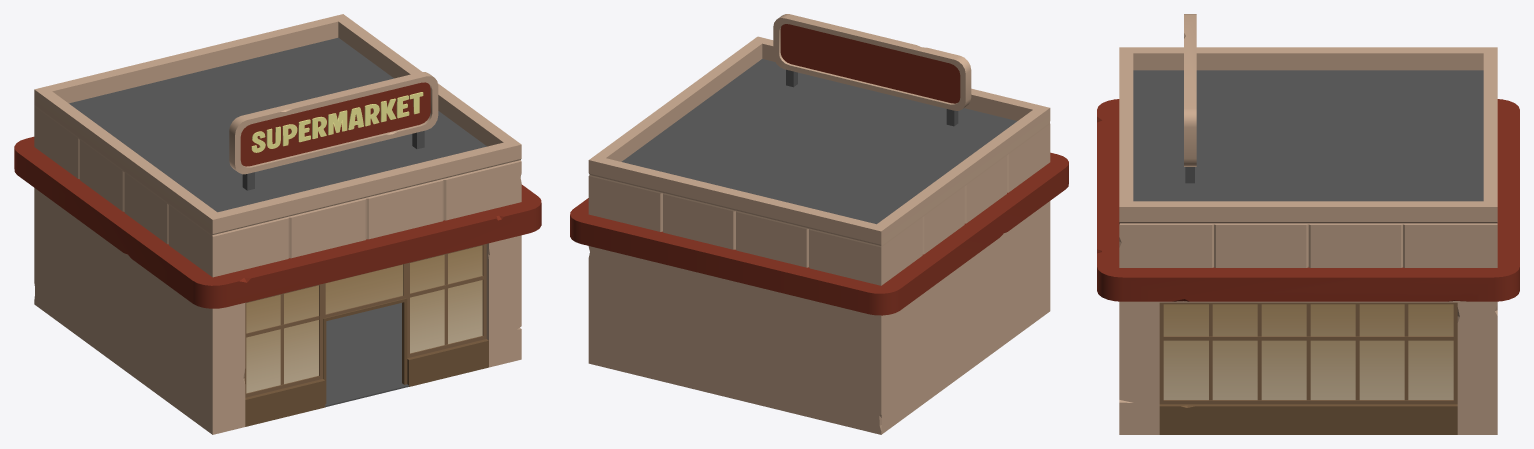
File: SM_Buildings_Supermarket_01.fbx
3 renders of one model, left to right at view 1: azimuth 30°, elevation 25°; view 2: azimuth 150°, elevation 25°; view 3: azimuth 270°, elevation 25°, orthographic. The views are drawn at different scales.
Visible parts, largest first — view 1: SM_Buildings_Supermarket_01; view 2: SM_Buildings_Supermarket_01; view 3: SM_Buildings_Supermarket_01.
Part boxes in pixels (x1,y1,x2,y2): SM_Buildings_Supermarket_01: [14, 14, 541, 434]; SM_Buildings_Supermarket_01: [570, 14, 1068, 434]; SM_Buildings_Supermarket_01: [1097, 14, 1519, 434].
Size of the model in its own units: 11.35 by 8.68 by 11.35.
